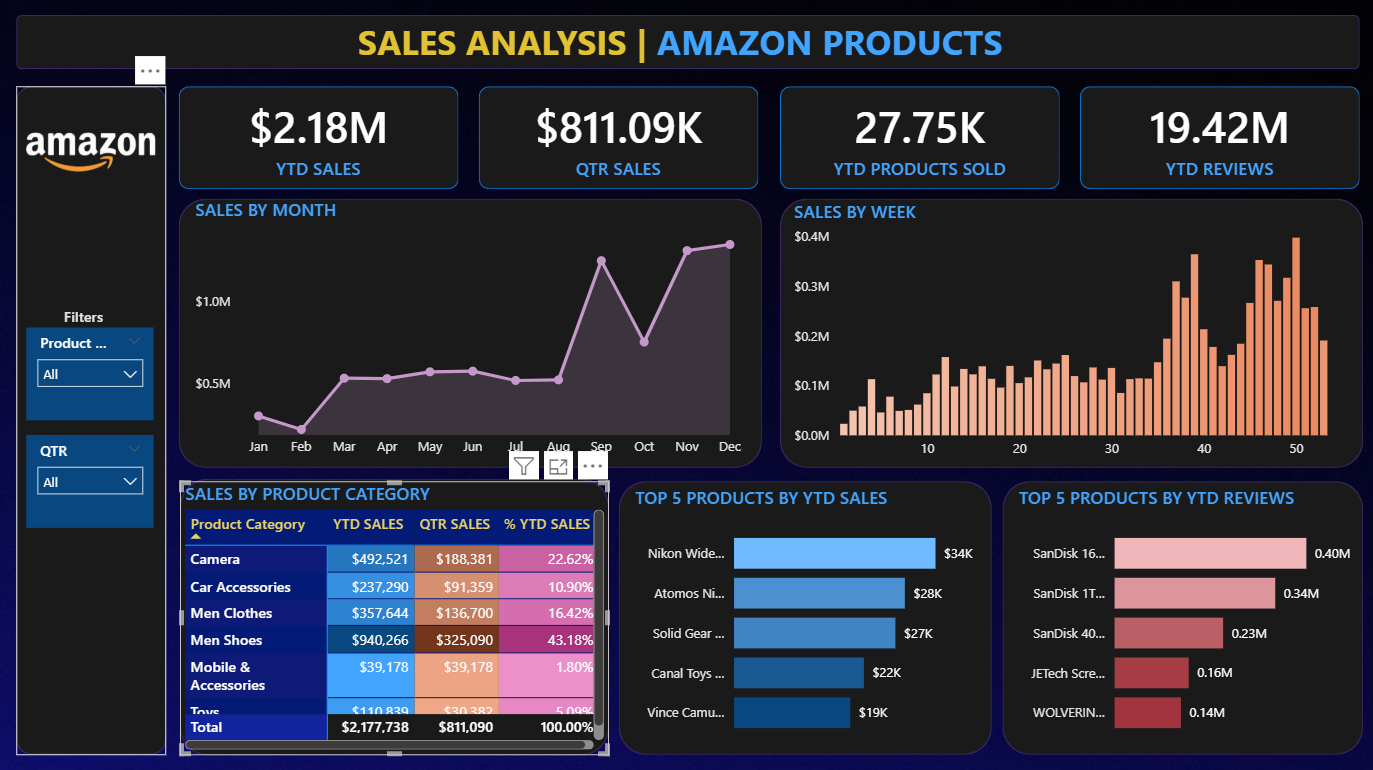

The page's visual inventory and layout, read from the dashboard file:
{"tool":"powerbi","page":{"name":"Page 1","canvas":[1280,720],"ordinal":0},"visuals":[{"type":"shape","box":[15.1,13.4,1249.8,50.4],"z":0},{"type":"shape","box":[166.3,80.6,260.4,95.7],"z":1000,"group":"g1"},{"type":"textbox","box":[328.2,11.6,620.2,52],"z":2000},{"type":"card","fields":{"Values":["Amazon_Data.YTD SALES"]},"box":[166.3,80.6,260.4,95.7],"z":3000,"group":"g1"},{"type":"shape","box":[15.1,80.6,139.4,621.5],"z":4000},{"type":"shape","box":[445.7,80.6,260.4,95.7],"z":5000,"group":"g1"},{"type":"card","fields":{"Values":["Amazon_Data.QTR SALES"]},"box":[445.1,80.6,260.4,95.7],"z":6000,"group":"g1"},{"type":"shape","box":[166.3,184.8,542.6,250.3],"z":7000},{"type":"shape","box":[725.1,80.6,260.4,95.7],"z":8000,"group":"g1"},{"type":"areaChart","title":"SALES BY MONTH","fields":{"Category":["Date Table.Month Name"],"Y":["Amazon_Data.Price(Dollar)"]},"box":[176.4,183.6,523.4,250.1],"z":9000},{"type":"shape","box":[1004.5,80.6,260.4,95.7],"z":10000,"group":"g1"},{"type":"shape","box":[725.7,184.8,542.6,250.3],"z":11000},{"type":"card","fields":{"Values":["Amazon_Data.YTD PRODUCTS SOLD"]},"box":[725.7,80.6,260.4,95.7],"z":12000,"group":"g1"},{"type":"shape","box":[167.7,445.3,399,257.3],"z":13000},{"type":"card","fields":{"Values":["Amazon_Data.YTD REVIEWS"]},"box":[1004.5,80.6,260.4,95.7],"z":14000,"group":"g1"},{"type":"shape","box":[932.5,448.2,335.4,254.5],"z":15000},{"type":"columnChart","title":"SALES BY WEEK","fields":{"Category":["Date Table.Week"],"Y":["Amazon_Data.Price(Dollar)"]},"box":[734.1,184.8,527.5,250.3],"z":16000},{"type":"pivotTable","title":"SALES BY PRODUCT CATEGORY","fields":{"Rows":["Amazon_Data.Product Category"],"Values":["Amazon_Data.YTD SALES1","Amazon_Data.QTR SALES","Amazon_Data.YTD SALES"]},"box":[167.7,448.2,399,254.5],"z":17000},{"type":"shape","box":[575.4,448.2,347,254.5],"z":18000},{"type":"clusteredBarChart","title":"TOP 5 PRODUCTS BY YTD REVIEWS","fields":{"Category":["Amazon_Data.Product Description"],"Y":["Amazon_Data.YTD REVIEWS"]},"box":[942.7,451.1,325.3,247.2],"z":19000},{"type":"clusteredBarChart","title":"TOP 5 PRODUCTS BY YTD SALES","fields":{"Category":["Amazon_Data.Product Description"],"Y":["Amazon_Data.YTD SALES"]},"box":[585.5,451.1,336.9,247.2],"z":20000},{"type":"slicer","fields":{"Values":["Amazon_Data.Product Category"]},"box":[24.6,305.1,118.6,86.7],"z":21000},{"type":"slicer","fields":{"Values":["Date Table.QTR"]},"box":[24.6,404.8,118.6,86.7],"z":22000},{"type":"image","box":[24.6,104.1,121.4,81],"z":23000},{"type":"textbox","box":[54.9,280.5,60.7,49.2],"z":24000},{"type":"group","id":"g1","title":"Group 1","box":[166.3,80.6,1098.6,95.7],"z":24001}]}

Visuals, with their boxes in screenshot pixels (x1, y1, x2, y2), scaled from the page's 1280x720 canvas onto the 1373x770 screenshot:
shape: box(16, 14, 1357, 68)
shape: box(178, 86, 458, 189)
textbox: box(352, 12, 1017, 68)
card - Amazon_Data.YTD SALES: box(178, 86, 458, 189)
shape: box(16, 86, 166, 751)
shape: box(478, 86, 757, 189)
card - Amazon_Data.QTR SALES: box(477, 86, 757, 189)
shape: box(178, 198, 760, 465)
shape: box(778, 86, 1057, 189)
"SALES BY MONTH" areaChart: box(189, 196, 751, 464)
shape: box(1077, 86, 1357, 189)
shape: box(778, 198, 1360, 465)
card - Amazon_Data.YTD PRODUCTS SOLD: box(778, 86, 1058, 189)
shape: box(180, 476, 608, 751)
card - Amazon_Data.YTD REVIEWS: box(1077, 86, 1357, 189)
shape: box(1000, 479, 1360, 751)
"SALES BY WEEK" columnChart: box(787, 198, 1353, 465)
"SALES BY PRODUCT CATEGORY" pivotTable: box(180, 479, 608, 751)
shape: box(617, 479, 989, 751)
"TOP 5 PRODUCTS BY YTD REVIEWS" clusteredBarChart: box(1011, 482, 1360, 747)
"TOP 5 PRODUCTS BY YTD SALES" clusteredBarChart: box(628, 482, 989, 747)
slicer - Amazon_Data.Product Category: box(26, 326, 154, 419)
slicer - Date Table.QTR: box(26, 433, 154, 526)
image: box(26, 111, 157, 198)
textbox: box(59, 300, 124, 353)
"Group 1" group: box(178, 86, 1357, 189)
